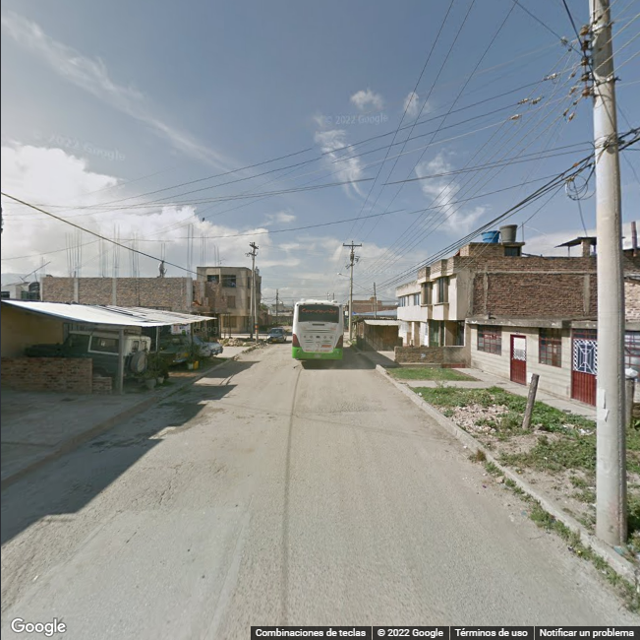D00: (216, 550, 245, 639), (154, 469, 180, 511)
